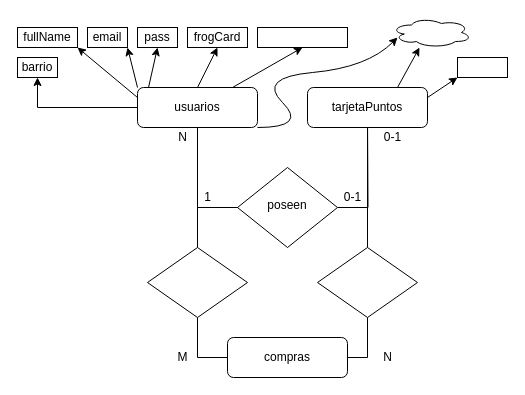
This 525x395 diagram has some shape labels left out. Each missing label, with the centre of its shape:
"FK: nroSocio" goes at pixel 431 32.
"generan" goes at pixel 367 282.
"PK: nroUsuario" goes at pixel 302 37.
"puntos" goes at pixel 482 67.
"realizan" goes at pixel 197 282.
